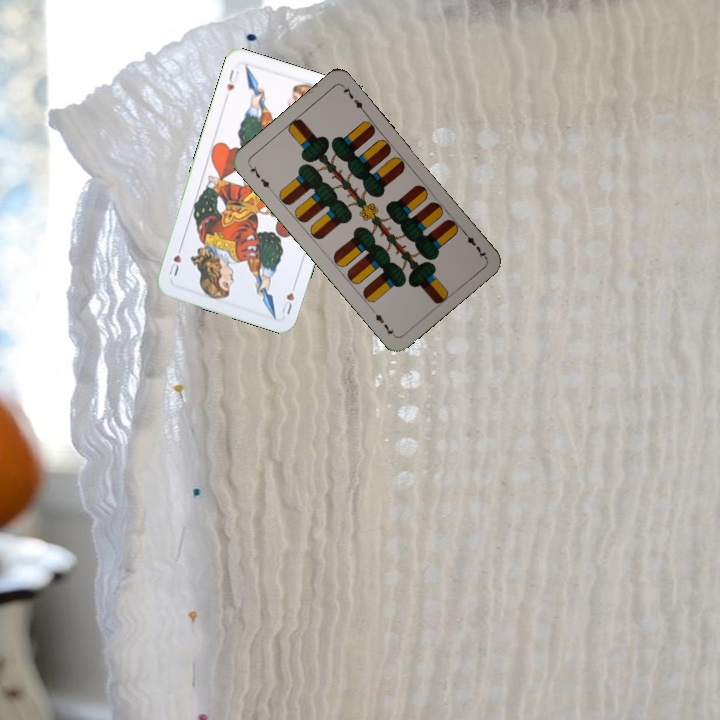E7: (458, 226, 489, 261), (244, 161, 275, 194)
HU: (277, 278, 299, 317), (221, 65, 242, 102)
